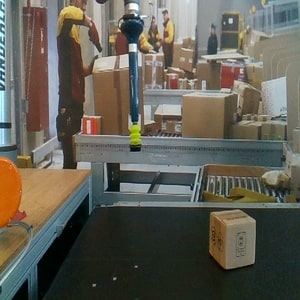box: (208, 208, 257, 271)
